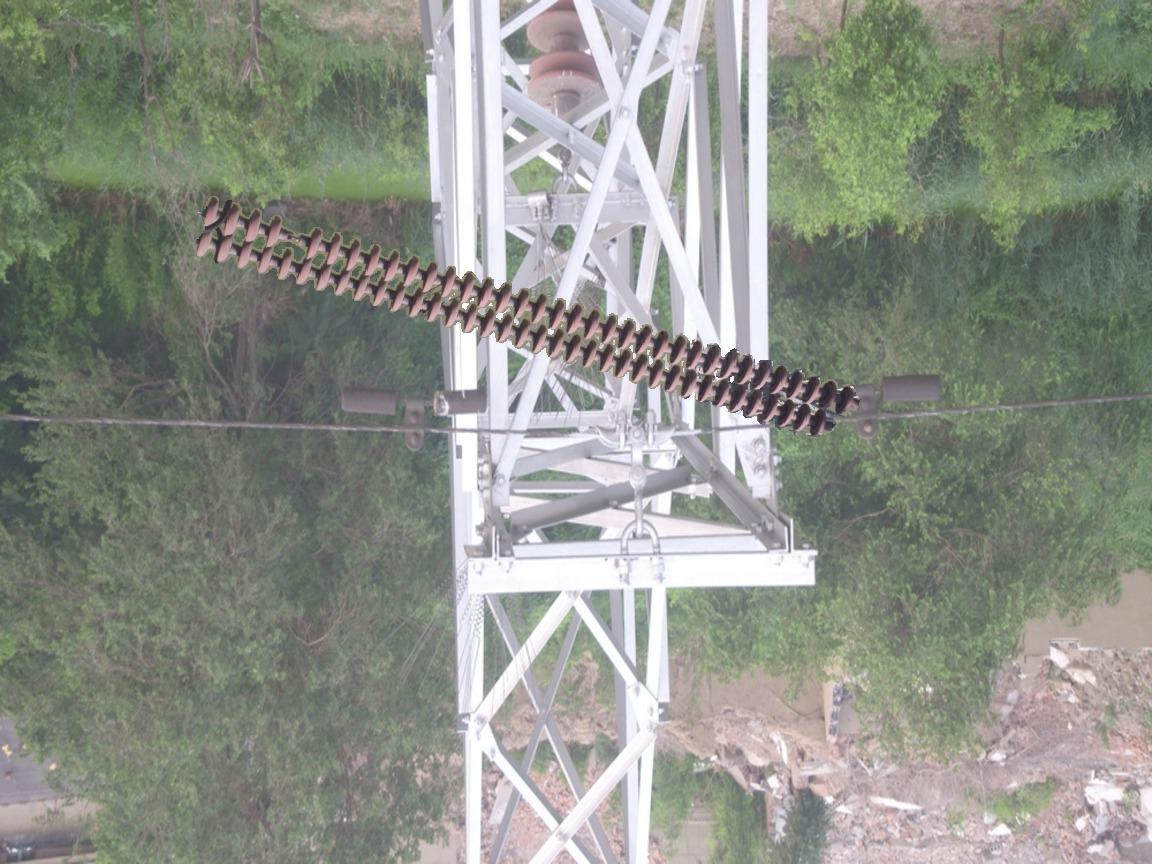insulator: (190, 195, 866, 446), (520, 1, 611, 121)
insulator_stringdrop: (259, 212, 325, 262)
